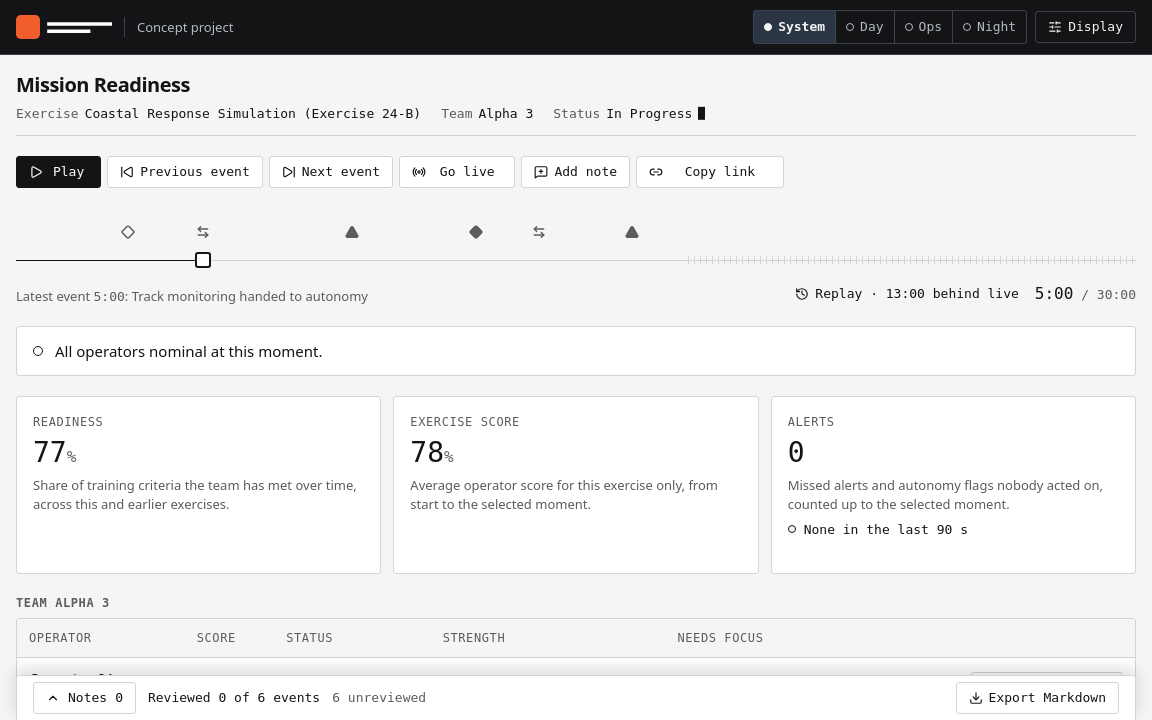
Test: Mission Readiness overview › goes live after scrubbing back, and disables forward at the edge
Step 1. Click the button "Go live" → (457, 172), box [399,156,516,188]
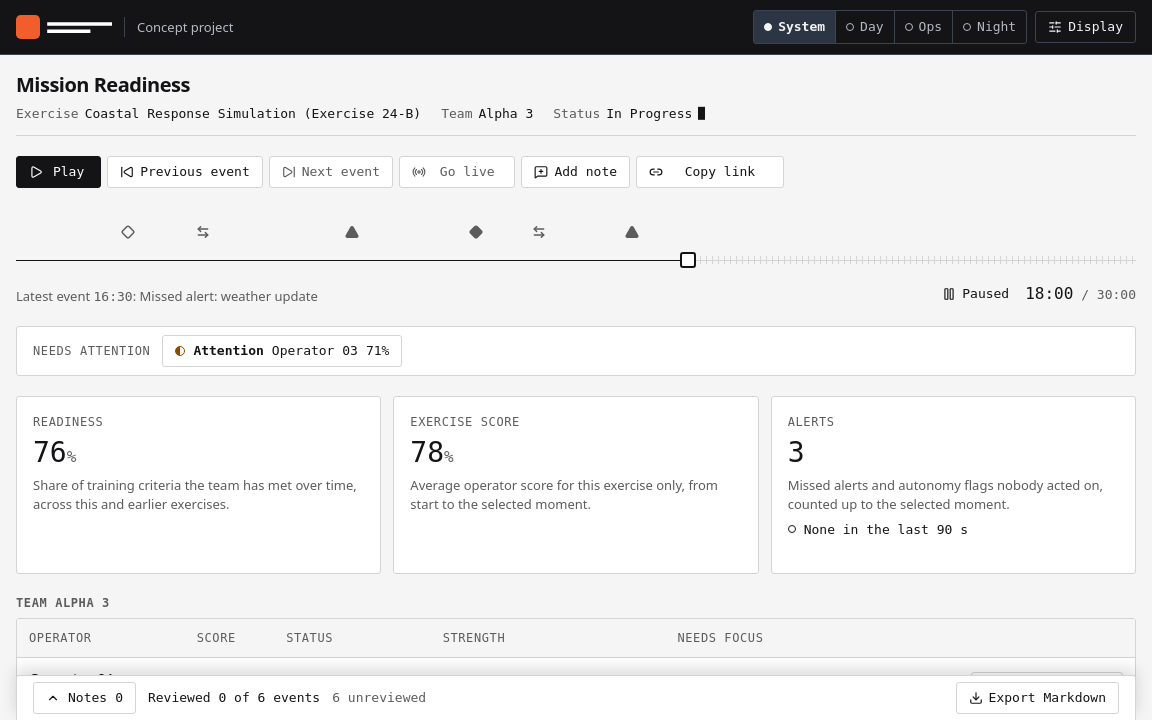
expect the text named "18 minutes elapsed" is shown: met, box [1025,284,1073,303]
expect the button "Next event" is disabled: met, box [269,156,393,188]
expect the button "Go live" is disabled: met, box [399,156,516,188]
